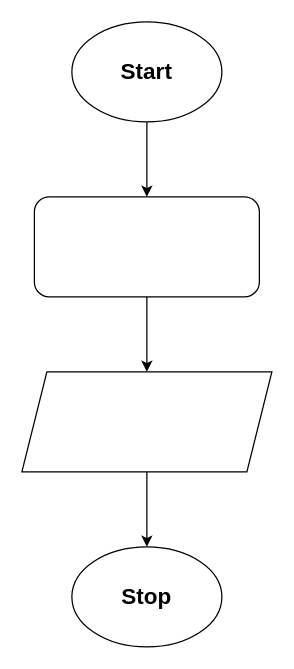
Image size: 294x669. Some labels were removed from this diagram. Each missing label, with the box of its shape:
Login: (33, 196, 259, 297)
View products: (21, 371, 272, 472)
